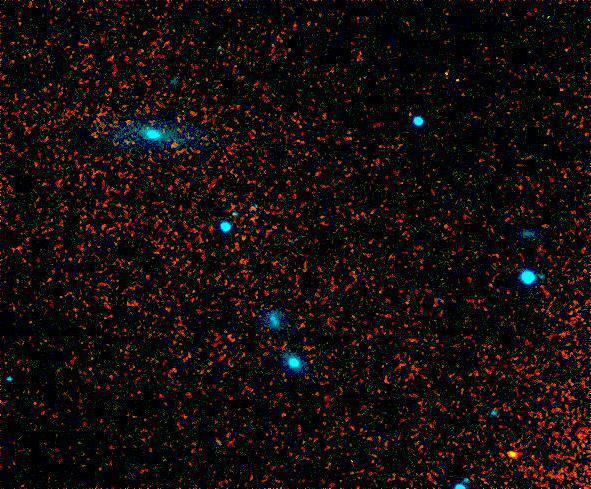star: (498, 442, 528, 472)
